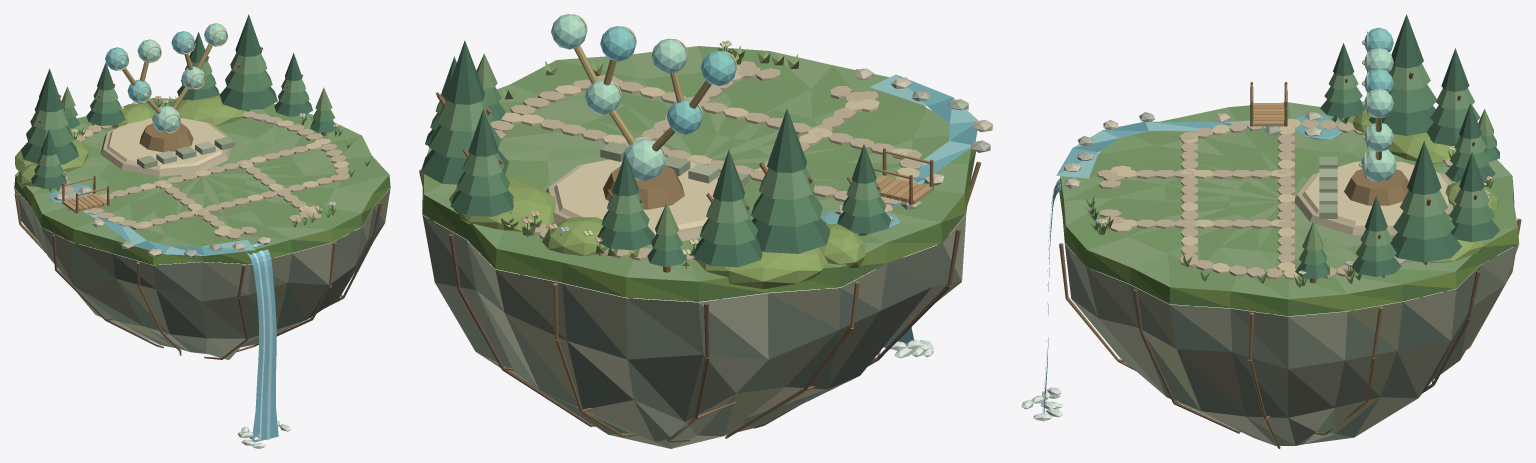
Rendered from island_dsa_v2.glb.
3 views of the same model, side by side, from view 1: azimuth 30°, elevation 25°; view 2: azimuth 150°, elevation 25°; view 3: azimuth 270°, elevation 25° (orthographic). The views are drawn at different scales.
Parts seen in each view (by area): view 1: SW15_dsa_meadow, SW15_dsa_cliff, SW15_dsa_stone, SW15_dsa_leaves, SW15_dsa_water, SW15_dsa_roots, SW15_dsa_crystal, SW15_dsa_brass, SW15_dsa_timber, SW15_dsa_foam; view 2: SW15_dsa_meadow, SW15_dsa_cliff, SW15_dsa_leaves, SW15_dsa_stone, SW15_dsa_crystal, SW15_dsa_roots, SW15_dsa_water, SW15_dsa_timber, SW15_dsa_brass, SW15_dsa_foam; view 3: SW15_dsa_meadow, SW15_dsa_cliff, SW15_dsa_leaves, SW15_dsa_stone, SW15_dsa_roots, SW15_dsa_crystal, SW15_dsa_water, SW15_dsa_timber, SW15_dsa_foam.
Part boxes in pixels (x1=…): SW15_dsa_meadow: x1=14, y1=95, x2=390, y2=265; SW15_dsa_cliff: x1=14, y1=188, x2=390, y2=359; SW15_dsa_stone: x1=53, y1=37, x2=350, y2=257; SW15_dsa_leaves: x1=21, y1=14, x2=371, y2=227; SW15_dsa_water: x1=49, y1=184, x2=278, y2=442; SW15_dsa_roots: x1=14, y1=123, x2=381, y2=359; SW15_dsa_crystal: x1=105, y1=23, x2=227, y2=133; SW15_dsa_brass: x1=113, y1=30, x2=227, y2=133; SW15_dsa_timber: x1=38, y1=47, x2=326, y2=213; SW15_dsa_foam: x1=237, y1=253, x2=290, y2=448; SW15_dsa_meadow: x1=422, y1=46, x2=975, y2=301; SW15_dsa_cliff: x1=422, y1=214, x2=966, y2=448; SW15_dsa_leaves: x1=421, y1=40, x2=891, y2=268; SW15_dsa_stone: x1=490, y1=61, x2=992, y2=261; SW15_dsa_crystal: x1=551, y1=14, x2=736, y2=180; SW15_dsa_roots: x1=419, y1=161, x2=981, y2=442; SW15_dsa_water: x1=821, y1=74, x2=978, y2=353; SW15_dsa_timber: x1=436, y1=92, x2=933, y2=272; SW15_dsa_brass: x1=572, y1=14, x2=736, y2=158; SW15_dsa_foam: x1=889, y1=340, x2=933, y2=358; SW15_dsa_meadow: x1=1059, y1=102, x2=1519, y2=316; SW15_dsa_cliff: x1=1064, y1=243, x2=1518, y2=445; SW15_dsa_leaves: x1=1076, y1=14, x2=1500, y2=287; SW15_dsa_stone: x1=1064, y1=40, x2=1483, y2=279; SW15_dsa_roots: x1=1059, y1=169, x2=1521, y2=448; SW15_dsa_crystal: x1=1361, y1=27, x2=1396, y2=181; SW15_dsa_water: x1=1042, y1=113, x2=1342, y2=422; SW15_dsa_timber: x1=1250, y1=71, x2=1477, y2=282; SW15_dsa_foam: x1=1021, y1=180, x2=1062, y2=420.
Size of the model in its own units: 9.33 by 8.27 by 9.93.
